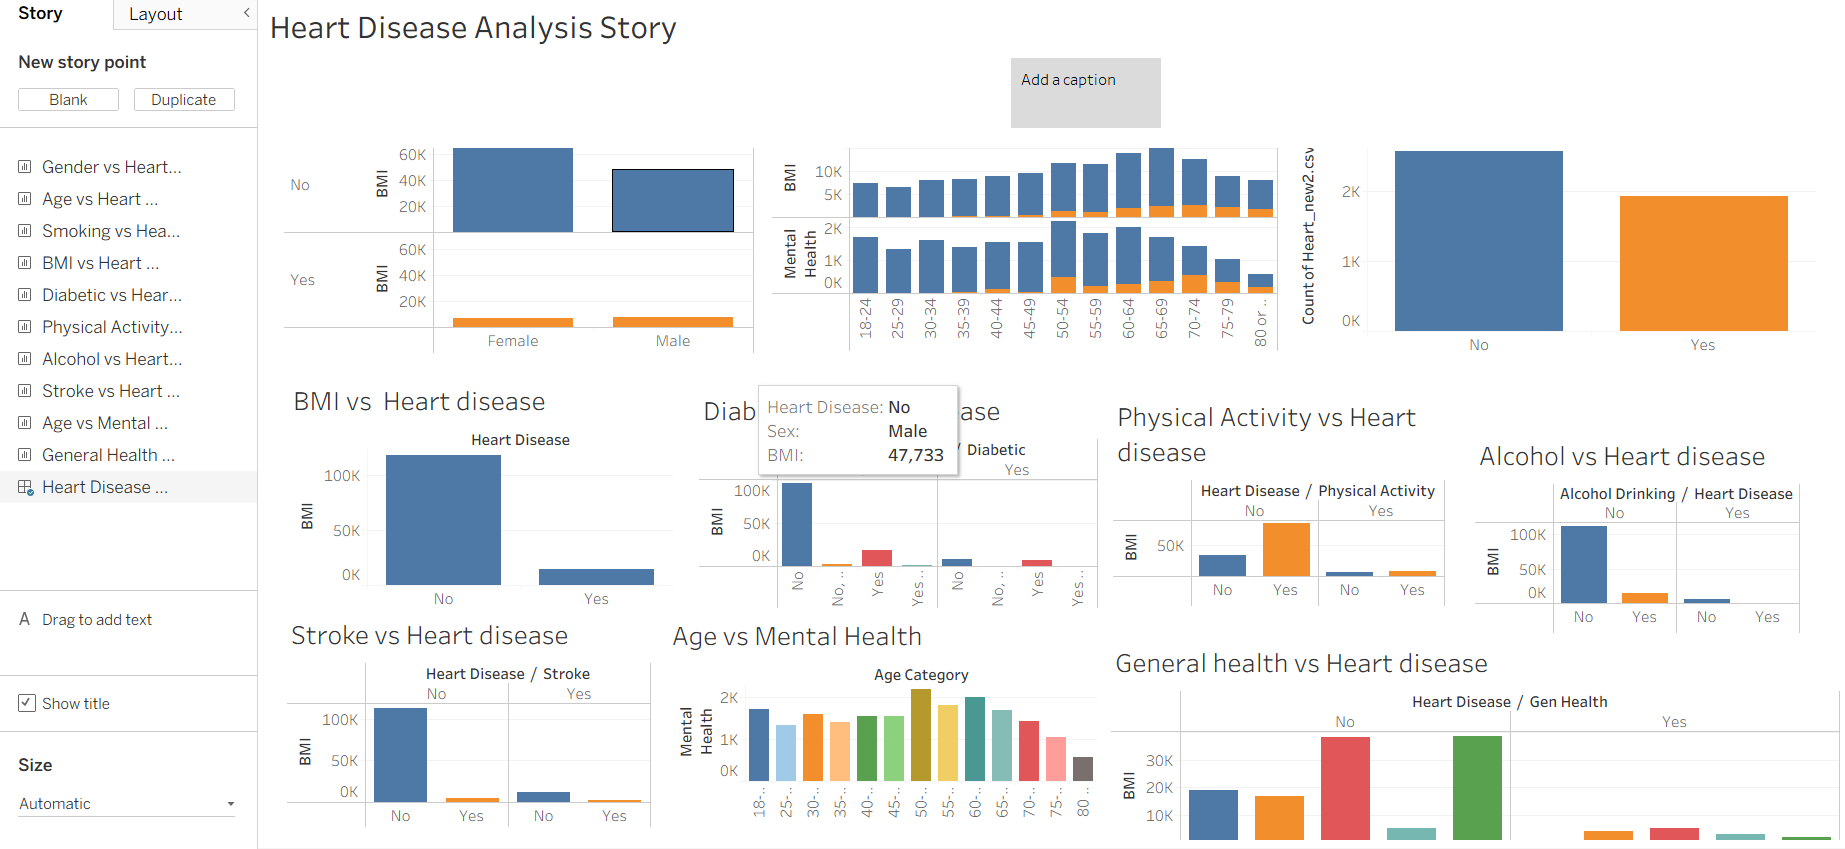

The page's visual inventory and layout, read from the dashboard file:
{"tool":"tableau","page":{"name":"Heart Disease Analysis Dash board ","canvas":[1580,900],"ordinal":0},"visuals":[{"type":"title","box":[8,8,1564,50]},{"type":"worksheet","title":"Gender vs Heart Disease ","mark":"Automatic","rows":["HeartDisease","BMI"],"cols":["Sex"],"box":[18,59,470,287]},{"type":"worksheet","title":"Age vs Heart Disease ","mark":"Automatic","rows":["BMI","MentalHealth"],"cols":["AgeCategory"],"box":[506,62,506,283]},{"type":"worksheet","title":"Smoking vs Heart Disease ","mark":"Automatic","rows":["Heart_new2.csv_DDE0C53C243642C4964181B203B1B03C"],"cols":["Smoking"],"box":[1024,64,526,284]},{"type":"worksheet","title":"BMI vs Heart Disease ","mark":"Automatic","rows":["BMI"],"cols":["HeartDisease"],"box":[23,371,384,231]},{"type":"worksheet","title":"Diabetic vs Heart Disease ","mark":"Automatic","rows":["BMI"],"cols":["HeartDisease","Diabetic"],"box":[433,381,399,221]},{"type":"worksheet","title":"Physical Activity vs Heart Disease ","mark":"Automatic","rows":["BMI"],"cols":["HeartDisease","PhysicalActivity"],"box":[847,387,332,212]},{"type":"worksheet","title":"Alcohol vs Heart Disease ","mark":"Automatic","rows":["BMI"],"cols":["AlcoholDrinking","HeartDisease"],"box":[1209,426,325,200]},{"type":"worksheet","title":"Stroke vs Heart Disease","mark":"Automatic","rows":["BMI"],"cols":["HeartDisease","Stroke"],"box":[21,605,364,215]},{"type":"worksheet","title":"Age vs Mental Health ","mark":"Automatic","rows":["MentalHealth"],"cols":["AgeCategory"],"box":[402,606,429,206]},{"type":"worksheet","title":"General Health vs Heart Disease ","mark":"Automatic","rows":["BMI"],"cols":["HeartDisease","GenHealth"],"box":[845,633,729,242]}]}

Visuals, with their boxes on the page's 1580x900 design canvas (x1, y1, x2, y2). These are canvas units, not pixel positions in the 1845x849 screenshot, which may show the page scaled, cropped or inside an application window:
title: {"x1": 8, "y1": 8, "x2": 1572, "y2": 58}
"Gender vs Heart Disease " worksheet: {"x1": 18, "y1": 59, "x2": 488, "y2": 346}
"Age vs Heart Disease " worksheet: {"x1": 506, "y1": 62, "x2": 1012, "y2": 345}
"Smoking vs Heart Disease " worksheet: {"x1": 1024, "y1": 64, "x2": 1550, "y2": 348}
"BMI vs Heart Disease " worksheet: {"x1": 23, "y1": 371, "x2": 407, "y2": 602}
"Diabetic vs Heart Disease " worksheet: {"x1": 433, "y1": 381, "x2": 832, "y2": 602}
"Physical Activity vs Heart Disease " worksheet: {"x1": 847, "y1": 387, "x2": 1179, "y2": 599}
"Alcohol vs Heart Disease " worksheet: {"x1": 1209, "y1": 426, "x2": 1534, "y2": 626}
"Stroke vs Heart Disease" worksheet: {"x1": 21, "y1": 605, "x2": 385, "y2": 820}
"Age vs Mental Health " worksheet: {"x1": 402, "y1": 606, "x2": 831, "y2": 812}
"General Health vs Heart Disease " worksheet: {"x1": 845, "y1": 633, "x2": 1574, "y2": 875}
